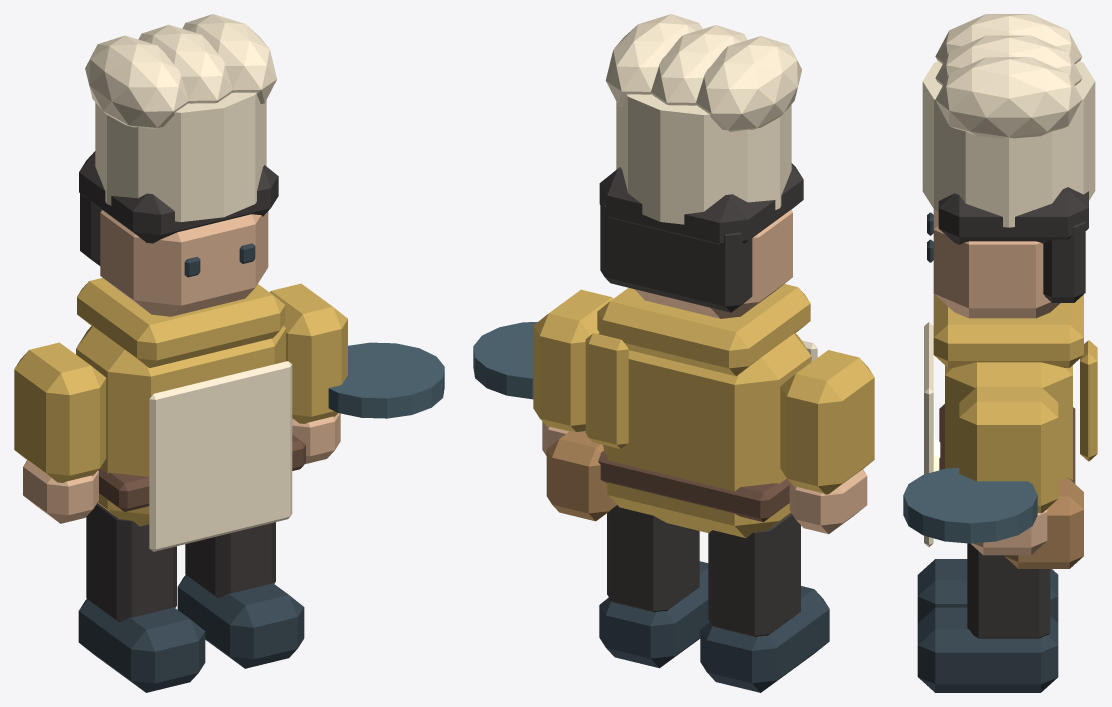
The model's file is person-chef.glb.
The picture shows the model from 3 angles, left to right: view 1: azimuth 30°, elevation 25°; view 2: azimuth 150°, elevation 25°; view 3: azimuth 270°, elevation 25°; orthographic projection. The views are drawn at different scales.
Visible parts, largest first — view 1: apron, chef-hat, head.006, tunic.006, sleeve.012, scarf.006, boot.012, leg.012, boot.013, pan, hat-fold, sleeve.013 (+8 smaller); view 2: tunic.006, chef-hat, sleeve.012, scarf.006, hair-back.006, leg.012, leg.013, hat-fold, sleeve.013, boot.012, boot.013, hair.006 (+8 smaller); view 3: chef-hat, sleeve.013, hat-fold.002, boot.013, head.006, pan, scarf.006, leg.013, tunic.006, hair.006, satchel.006, hat-fold.001 (+7 smaller).
Part boxes in pixels (x1,y1,x2,y2): apron: [149, 361, 292, 551]; chef-hat: [95, 92, 266, 221]; head.006: [100, 210, 268, 316]; tunic.006: [76, 326, 286, 526]; sleeve.012: [14, 342, 106, 482]; scarf.006: [77, 278, 285, 368]; boot.012: [78, 599, 205, 692]; leg.012: [86, 503, 176, 621]; boot.013: [177, 575, 304, 668]; pan: [328, 342, 444, 418]; hat-fold: [85, 35, 188, 129]; sleeve.013: [270, 283, 347, 423]; tunic.006: [598, 333, 811, 538]; chef-hat: [616, 94, 791, 224]; sleeve.012: [780, 350, 874, 494]; scarf.006: [597, 284, 810, 376]; hair-back.006: [600, 199, 752, 312]; leg.012: [708, 513, 800, 637]; leg.013: [607, 505, 699, 612]; hat-fold: [696, 36, 801, 131]; sleeve.013: [533, 289, 613, 431]; boot.012: [700, 586, 829, 692]; boot.013: [599, 561, 709, 668]; hair.006: [599, 163, 803, 244]; chef-hat: [922, 61, 1095, 227]; sleeve.013: [959, 386, 1058, 513]; hat-fold.002: [935, 57, 1082, 138]; boot.013: [917, 607, 1058, 692]; head.006: [933, 209, 1060, 318]; pan: [903, 467, 1037, 543]; scarf.006: [933, 294, 1083, 367]; leg.013: [967, 543, 1050, 638]; tunic.006: [945, 362, 1072, 479]; hair.006: [938, 187, 1088, 244]; satchel.006: [1004, 479, 1083, 568]; hat-fold.001: [935, 35, 1082, 85].
Size of the model in its own units: 1.41 by 2.14 by 0.6075.
